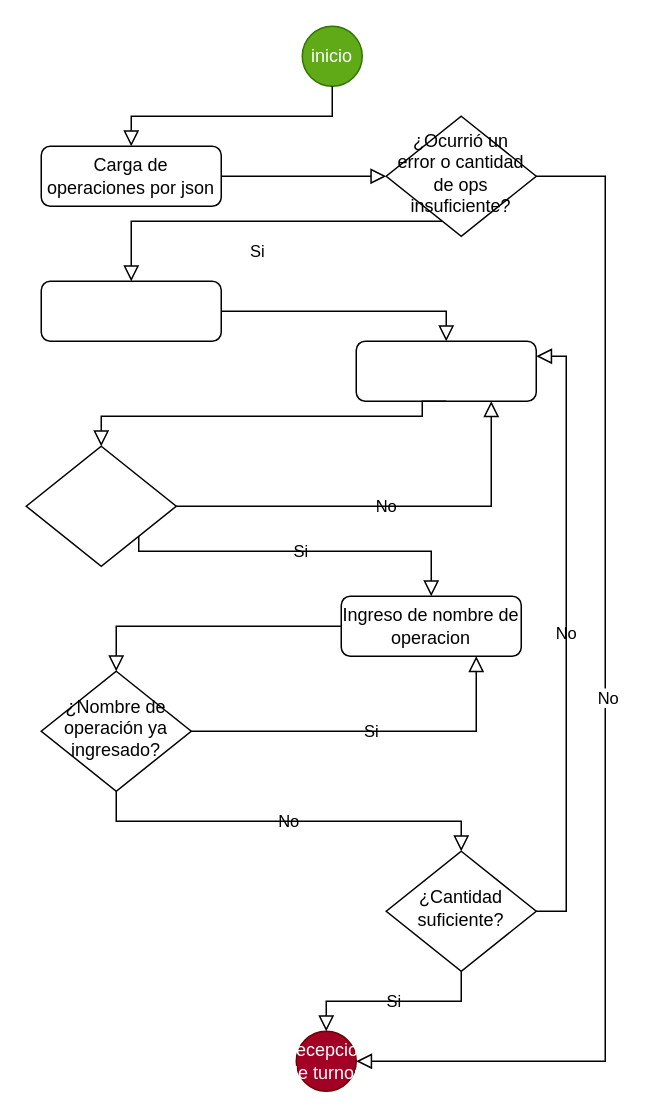
Image size: 647x1118. Some labels were removed from this diagram. The shapes that lost their labels are listed below. From the top down, each one's box as (x1, y1, x2, y2) in pixels, then its label:
(40, 280, 221, 341): Inicio carga manual
(355, 340, 536, 401): Ingreso código de operación
(25, 445, 176, 566): ¿Código no repetido y valido entre 100 y 999?
